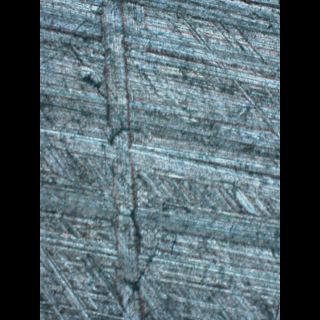d: (66, 0, 148, 319), (173, 0, 279, 140)
